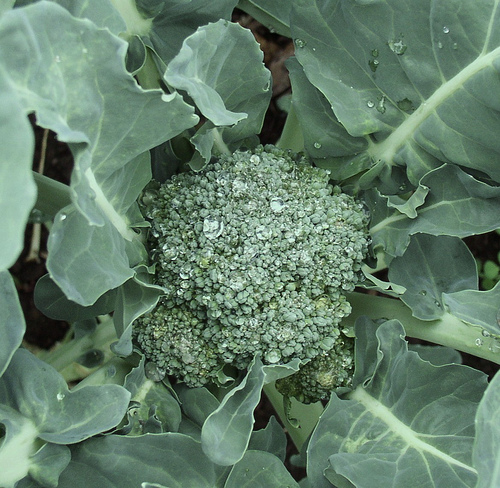broccoli: (136, 144, 371, 406)
